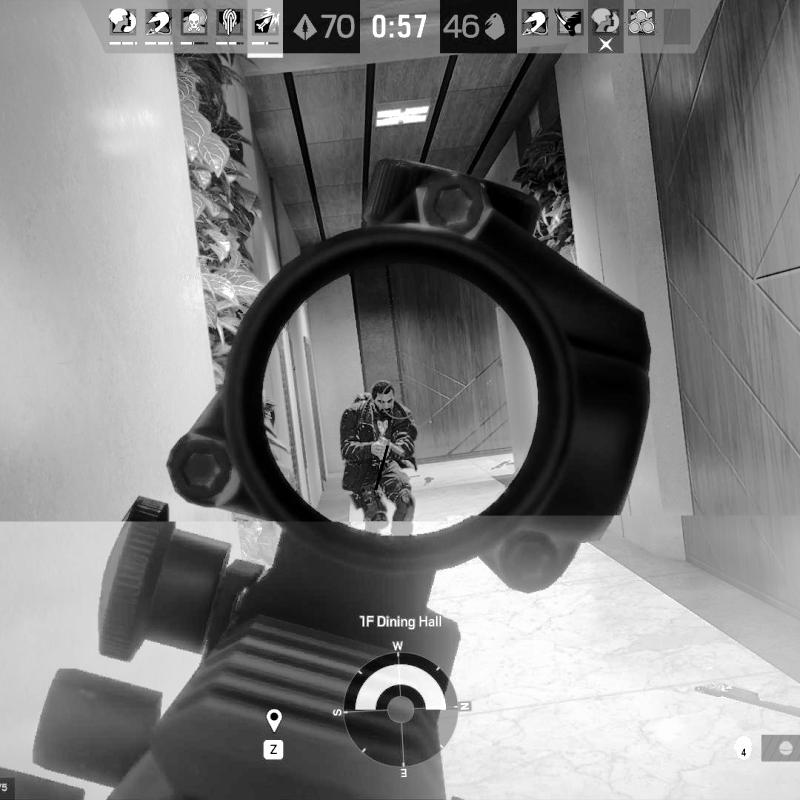Character: (335, 377, 422, 538)
Head: (373, 378, 396, 407)
